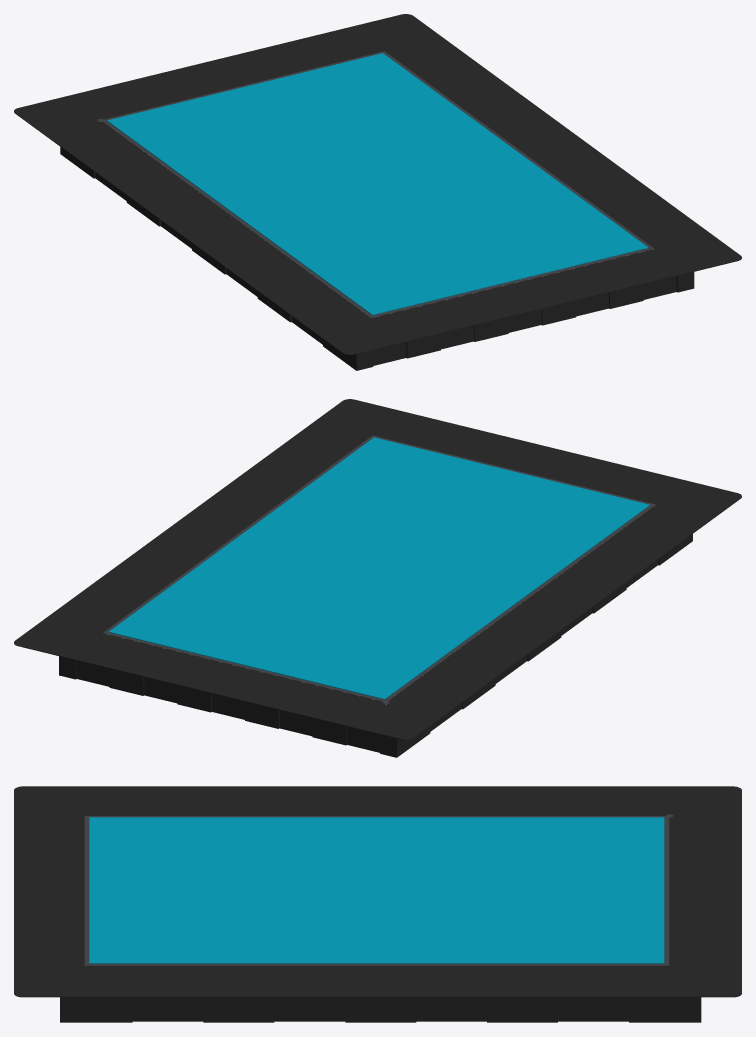
File: kc-ea_ediptft70-atc.glb
3 views of the same model, one above another, from view 1: azimuth 30°, elevation 25°; view 2: azimuth 150°, elevation 25°; view 3: azimuth 270°, elevation 25° (orthographic). The views are drawn at different scales.
Parts seen in each view (by area): view 1: 0_0.3333333333333333_0.5_0, 0_0_0_0, 0.08333333333333333_0.08333333333333333_0.08333333333333333_; view 2: 0_0.3333333333333333_0.5_0, 0_0_0_0, 0.08333333333333333_0.08333333333333333_0.08333333333333333_; view 3: 0_0.3333333333333333_0.5_0, 0_0_0_0, 0.08333333333333333_0.08333333333333333_0.08333333333333333_.
Boxes of the visible parts, <box> form: 0_0.3333333333333333_0.5_0: <box>107,53,648,315</box>; 0_0_0_0: <box>14,14,741,370</box>; 0.08333333333333333_0.08333333333333333_0.08333333333333333_: <box>97,51,653,317</box>; 0_0.3333333333333333_0.5_0: <box>109,437,649,699</box>; 0_0_0_0: <box>14,399,741,757</box>; 0.08333333333333333_0.08333333333333333_0.08333333333333333_: <box>103,435,655,703</box>; 0_0.3333333333333333_0.5_0: <box>89,817,664,963</box>; 0_0_0_0: <box>14,786,741,1022</box>; 0.08333333333333333_0.08333333333333333_0.08333333333333333_: <box>84,814,673,965</box>.
Bounding box in the file's own units: 13.2 × 1.74 × 19.3.
